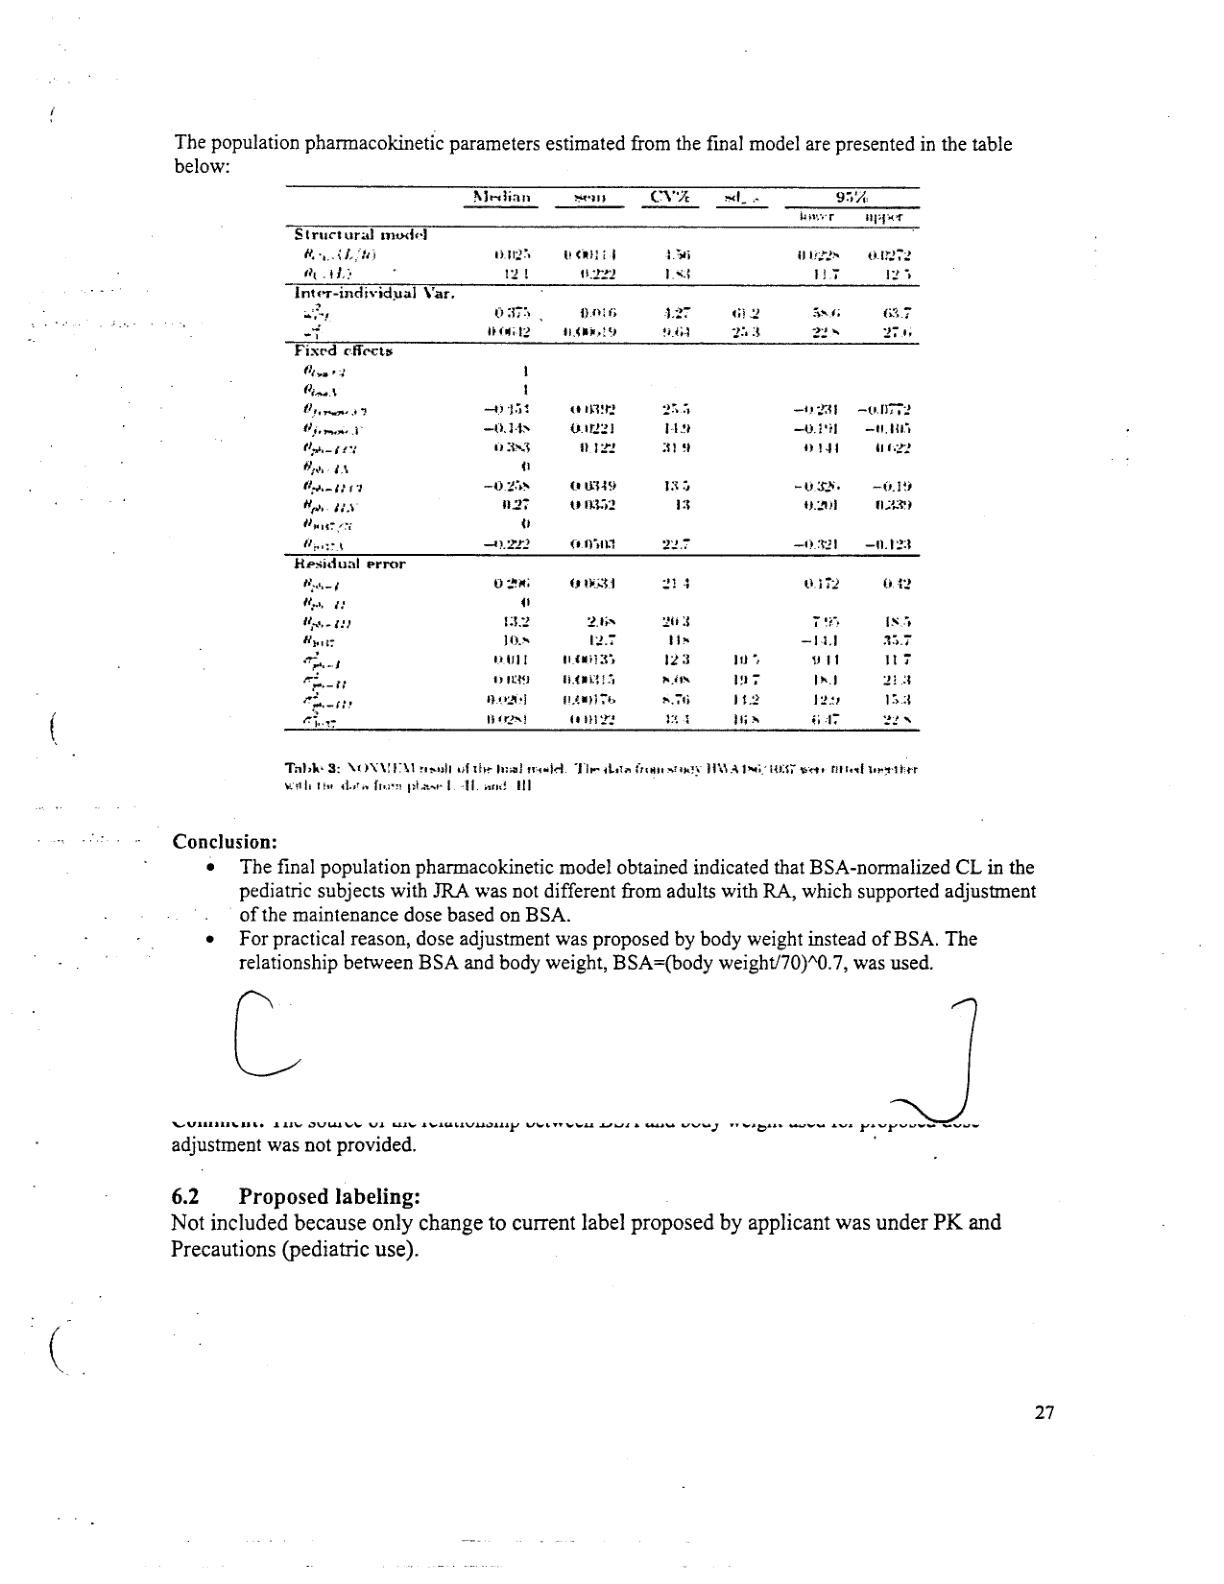partial_lined: (283, 183, 922, 732)
